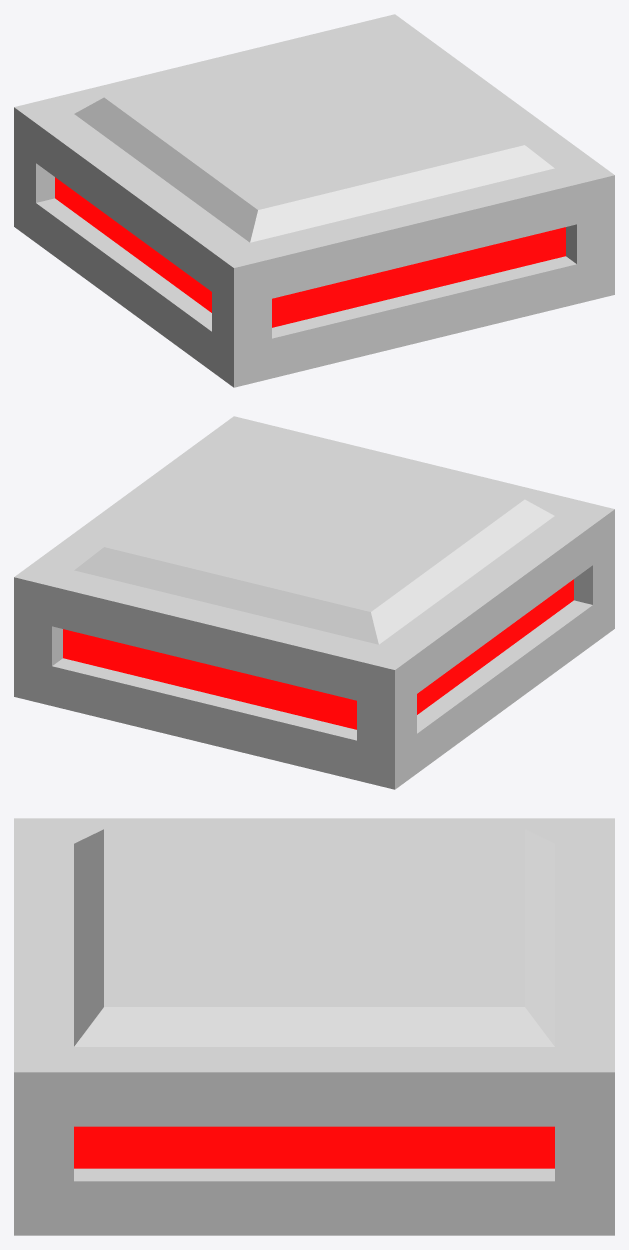
The model's file is dsPlatform.glb.
3 views of the same model, one above another, from view 1: azimuth 30°, elevation 25°; view 2: azimuth 150°, elevation 25°; view 3: azimuth 270°, elevation 25° (orthographic). The views are drawn at different scales.
Visible parts, largest first — view 1: Frame, Core; view 2: Frame, Core; view 3: Frame, Core.
Part boxes in pixels (x1,y1,x2,y2): Frame: (14,14,614,387); Core: (55,177,565,327); Frame: (14,416,614,789); Core: (63,579,573,729); Frame: (14,818,614,1235); Core: (74,1126,554,1168).
Size of what is drawn, in the model's own units: 2 by 0.8 by 2.
